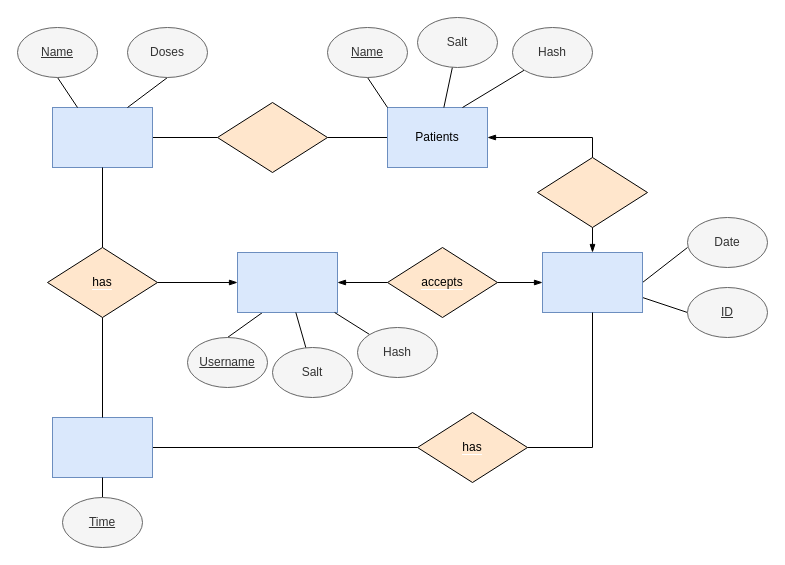
This 785x565 diagram has some shape labels left out. The shapes that lost their labels are listed below. From the top down, each one's centre as x and y in pixels, then its label:
At (x=102, y=137): "Vaccines".
At (x=272, y=137): "wants".
At (x=592, y=192): "makes".
At (x=287, y=282): "Caregivers".
At (x=592, y=282): "Appointments".
At (x=102, y=447): "Availabilities".
